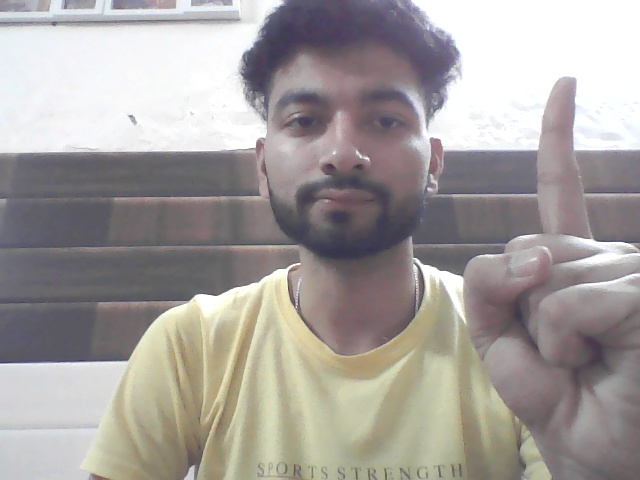Yes: (437, 65, 640, 437)
